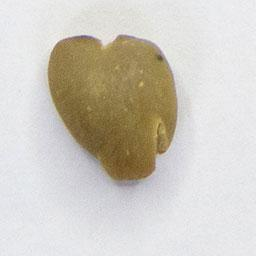defect: (45, 32, 180, 184)
